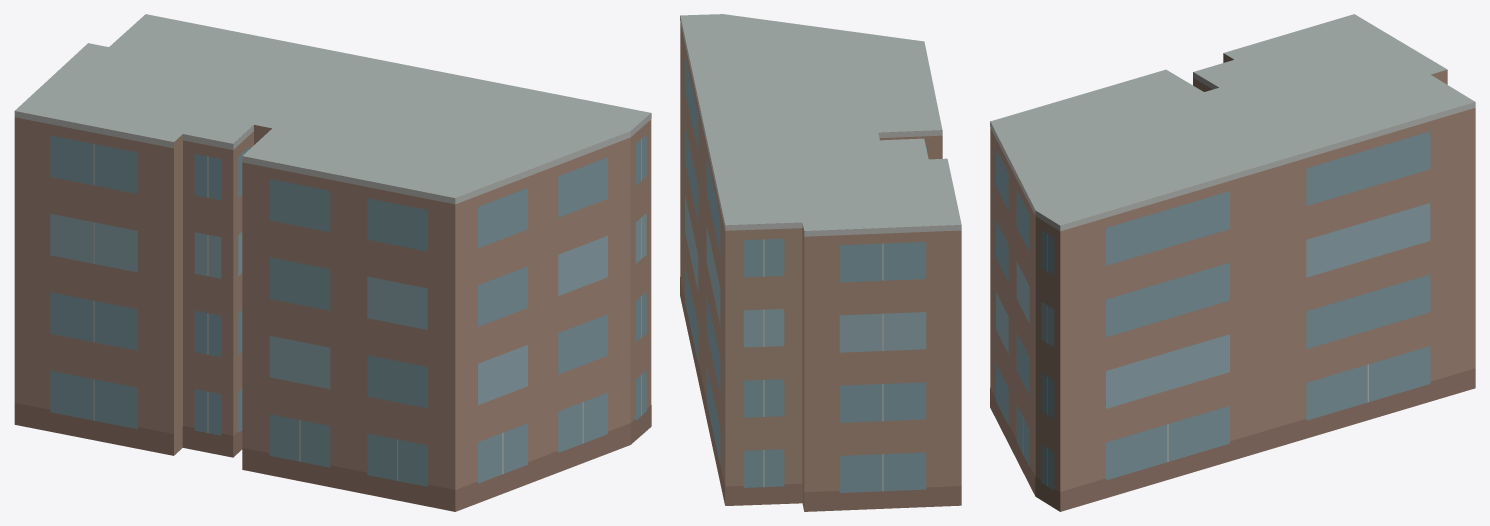
The model's file is survey-upis-32860268.glb.
3 renders of one model, left to right at view 1: azimuth 30°, elevation 25°; view 2: azimuth 150°, elevation 25°; view 3: azimuth 270°, elevation 25°, orthographic. The views are drawn at different scales.
Parts seen in each view (by area): view 1: survey-upis-32860268.tmp; view 2: survey-upis-32860268.tmp; view 3: survey-upis-32860268.tmp.
Part boxes in pixels (x1,y1,x2,y2): survey-upis-32860268.tmp: (14, 14, 651, 511); survey-upis-32860268.tmp: (680, 14, 961, 511); survey-upis-32860268.tmp: (990, 14, 1475, 511).
Bounding box in the file's own units: 19.45 × 12.25 × 18.84.
